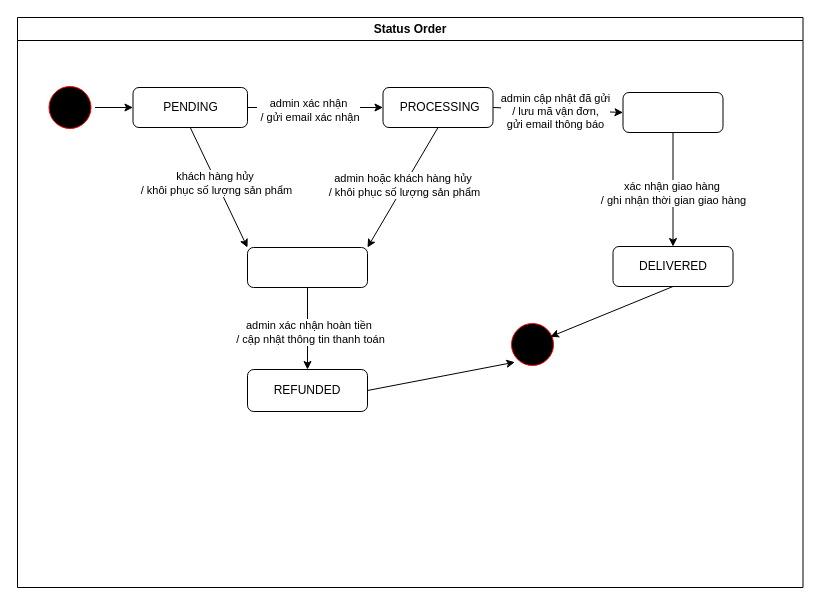
This 821x605 diagram has some shape labels left out. The shapes that lost their labels are listed below. From the top down, each one's centre as x and y in pixels, then its label:
(x=672, y=112): SHIPPED
(x=307, y=267): CANCELLED
